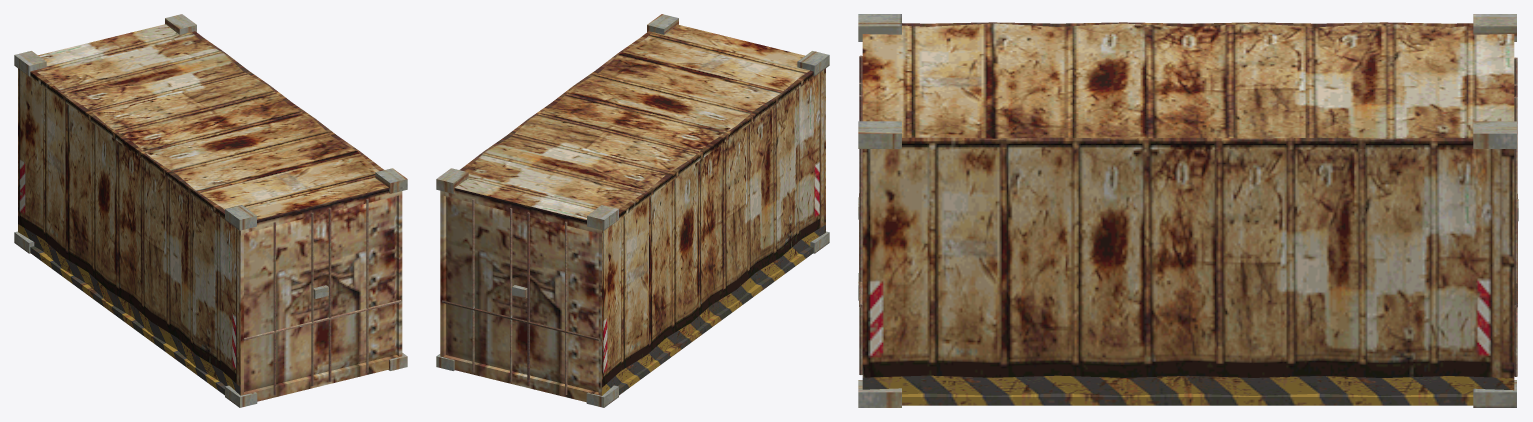
File: Container1_SM.fbx
3 renders of one model, left to right at view 1: azimuth 30°, elevation 25°; view 2: azimuth 150°, elevation 25°; view 3: azimuth 270°, elevation 25°, orthographic. The views are drawn at different scales.
Parts seen in each view (by area): view 1: Box004; view 2: Box004; view 3: Box004.
Boxes of the visible parts, <box> form: Box004: <box>14,14,407,407</box>; Box004: <box>436,14,829,407</box>; Box004: <box>858,14,1518,407</box>.
Bounding box in the file's own units: 238 × 255 × 556.
